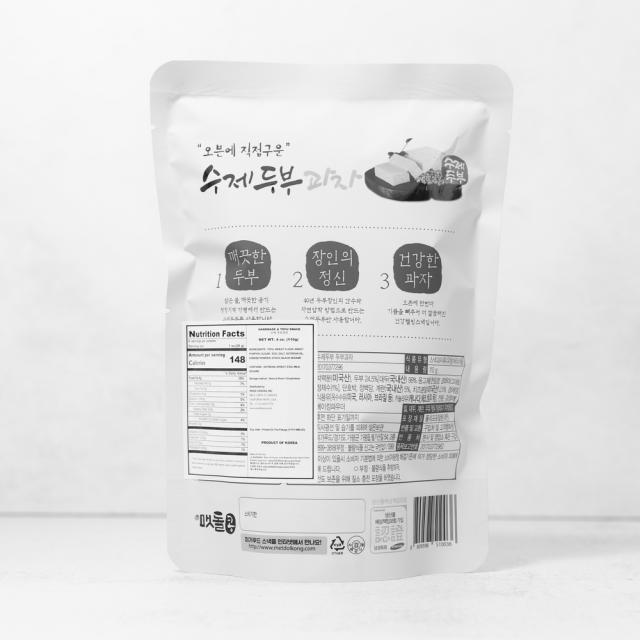Nutrition Label: (178, 317, 322, 484)
